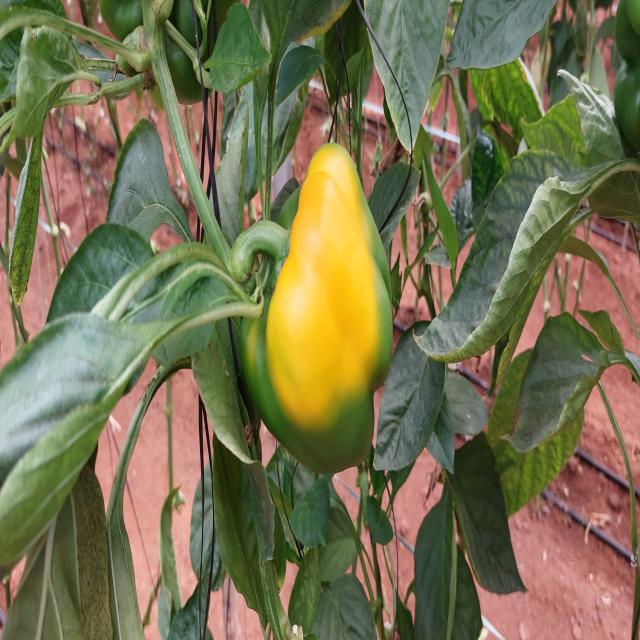GreenishYellow--Can-be-Harvested: (229, 149, 408, 474)
